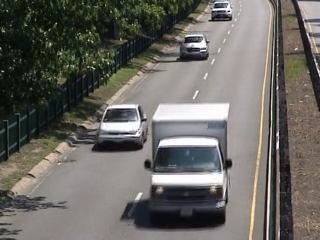car: (96, 103, 150, 148), (178, 33, 210, 62), (208, 2, 234, 24)
truck: (147, 102, 237, 227)
